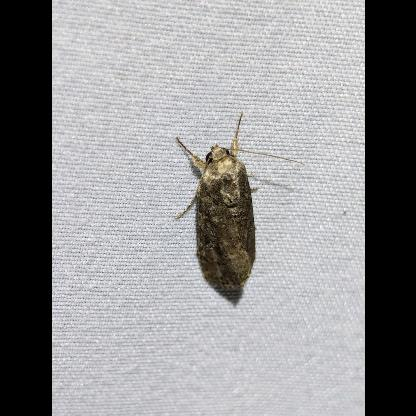Fall Armyworm Moth: (170, 108, 306, 294)
